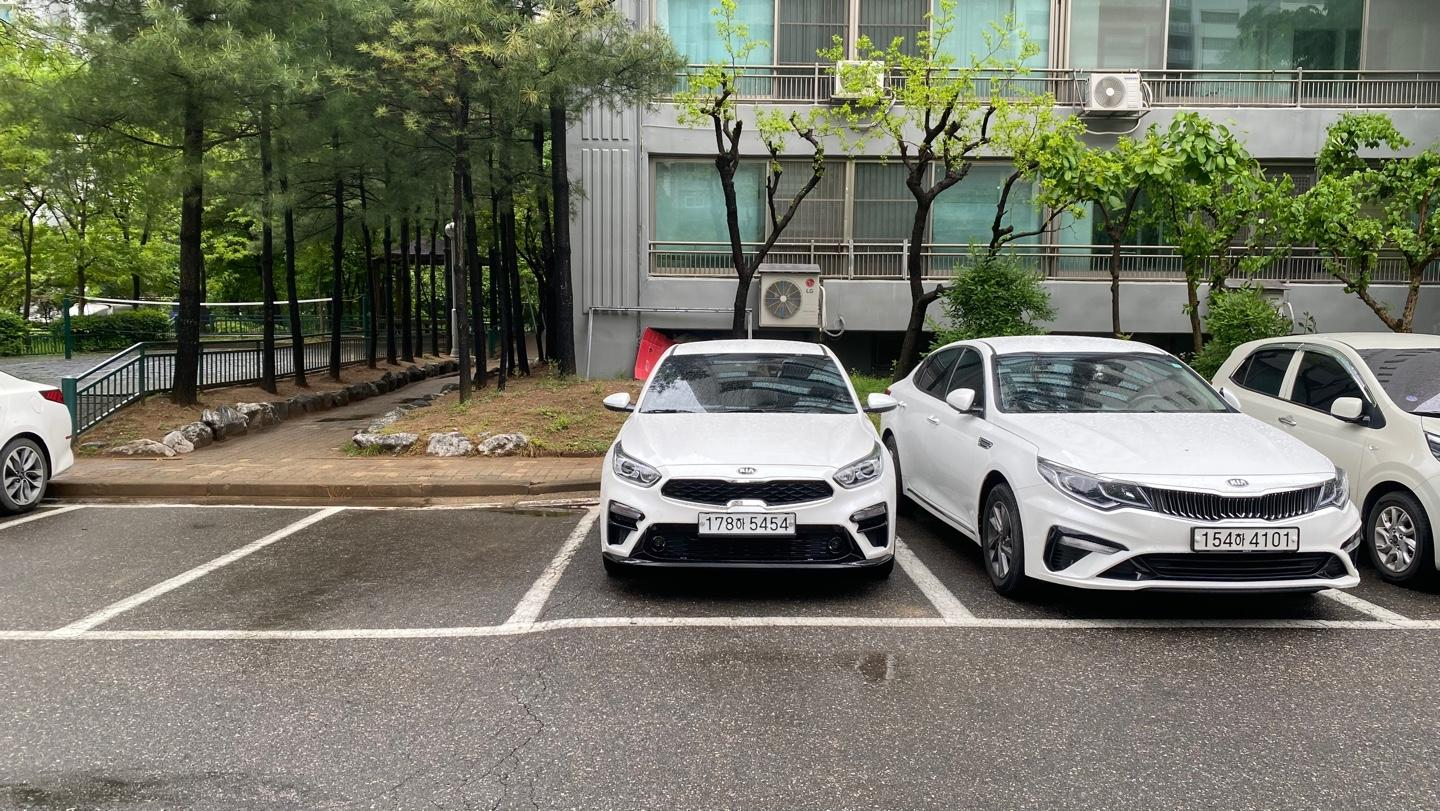empty: (49, 505, 603, 637)
occupied: (937, 337, 1359, 590), (599, 339, 903, 582)
